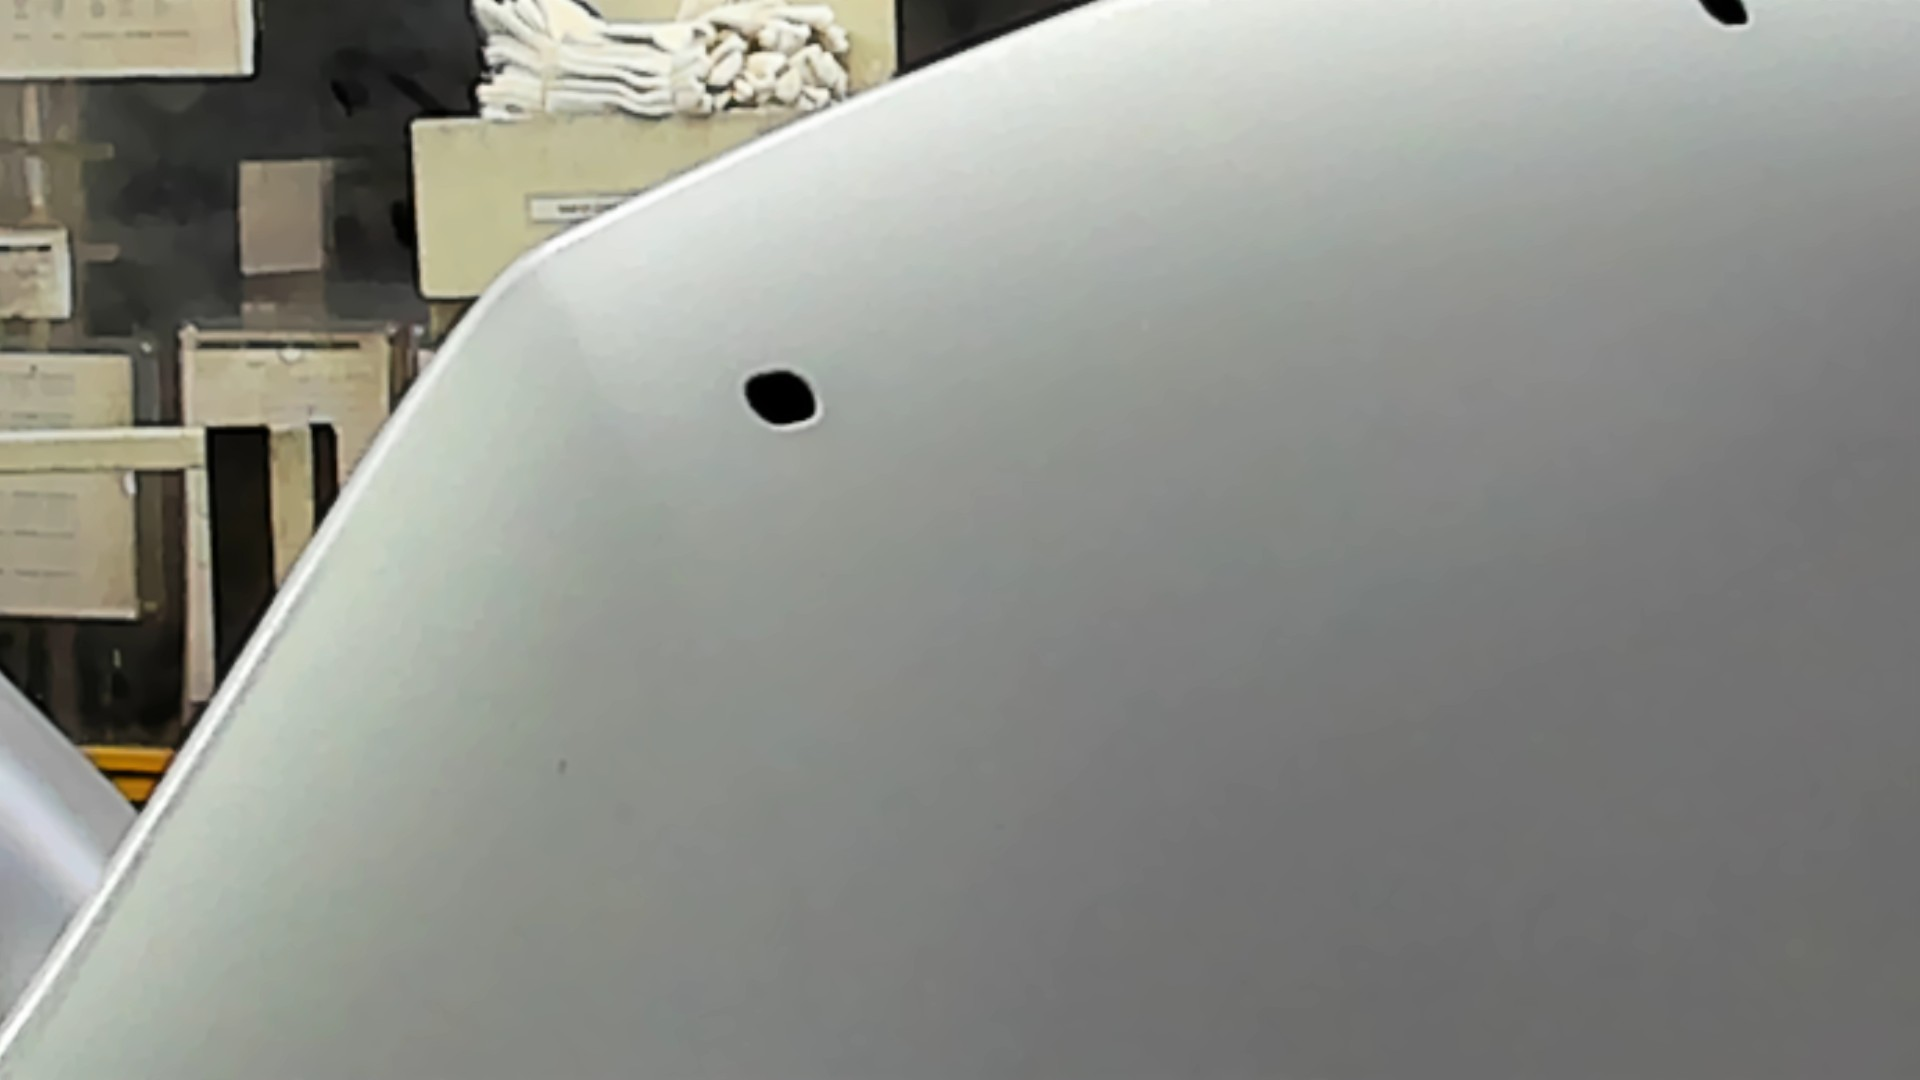amorfo: (737, 361, 827, 435), (1697, 1, 1755, 32)
